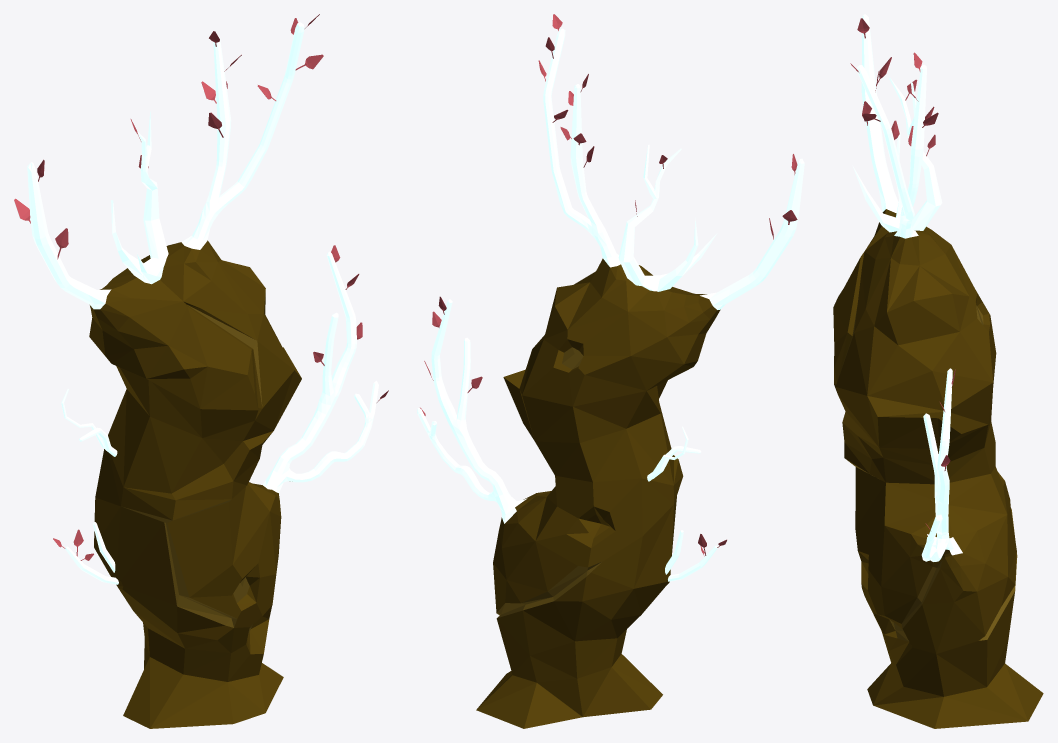
Rendered from SM_Tree_008.glb.
3 renders of one model, left to right at view 1: azimuth 30°, elevation 25°; view 2: azimuth 150°, elevation 25°; view 3: azimuth 270°, elevation 25°, orthographic. The views are drawn at different scales.
Parts seen in each view (by area): view 1: SM_Tree_008; view 2: SM_Tree_008; view 3: SM_Tree_008.
Part boxes in pixels (left/top/right/bottom): SM_Tree_008: left=14, top=14, right=388, bottom=728; SM_Tree_008: left=417, top=14, right=804, bottom=728; SM_Tree_008: left=833, top=14, right=1043, bottom=728.
Bounding box in the file's own units: 5.08 × 8.62 × 2.48.
2 materials, 1 textured.
